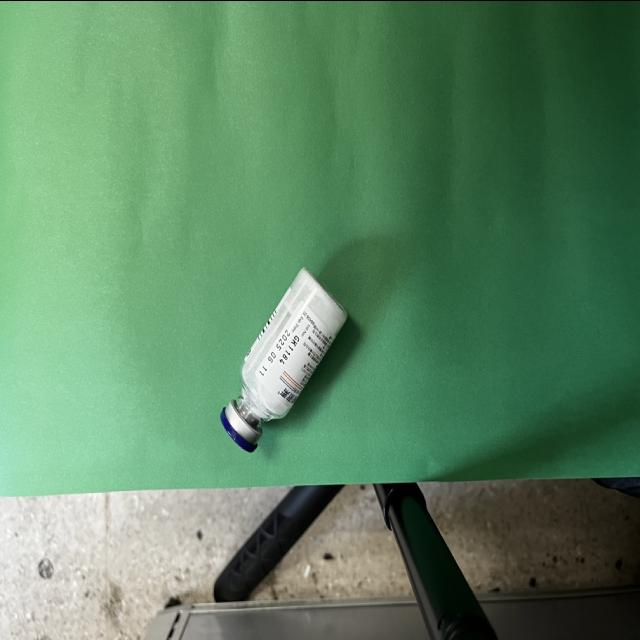Vials: (220, 265, 350, 451)
